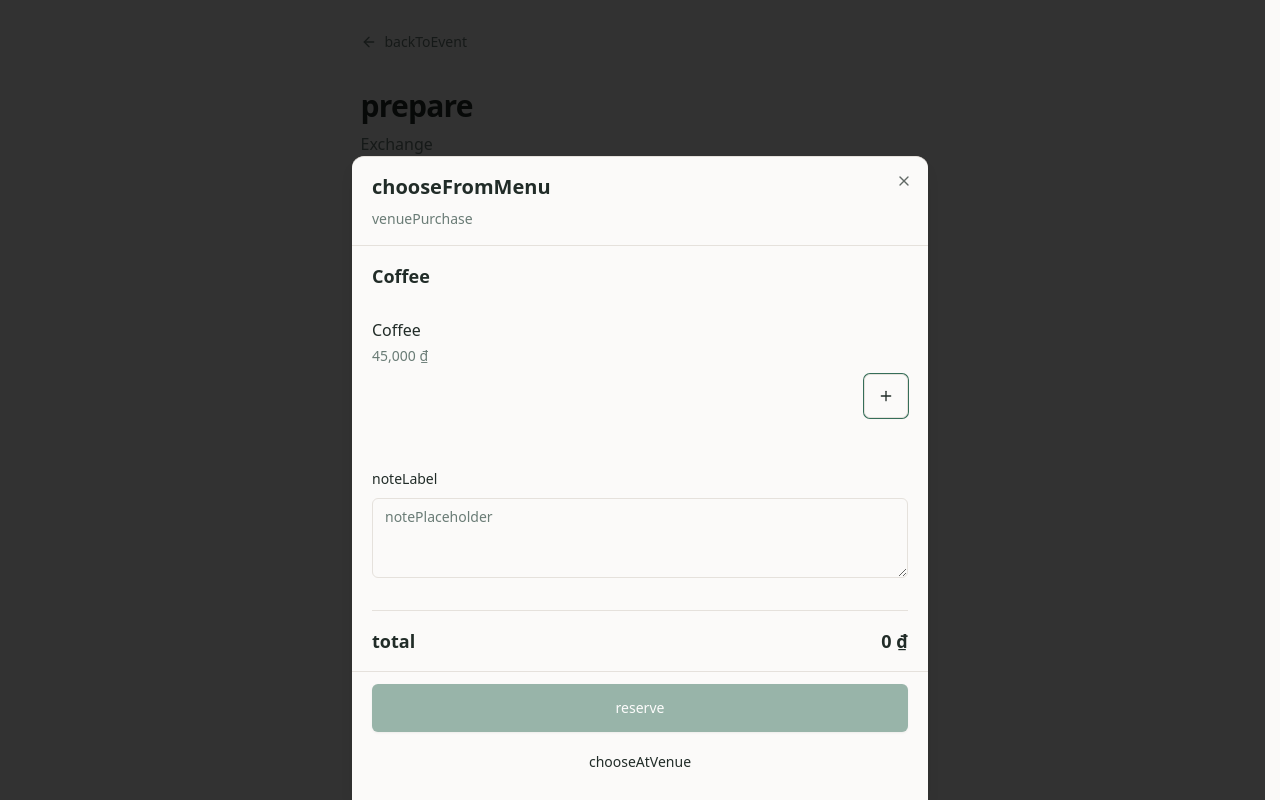
shows the paid menu after the free-drink cutoff and lets the guest choose at the venue
Check: the heading "chooseFromMenu" is shown, box [372,173,551,200]
Check: the text "venuePurchase" is shown, box [372,209,473,228]
What coordinates should you click on to do the following:
click the button "chooseAtVenue"
I would click on:
 (640, 762)
Its box is [372,740,908,784].
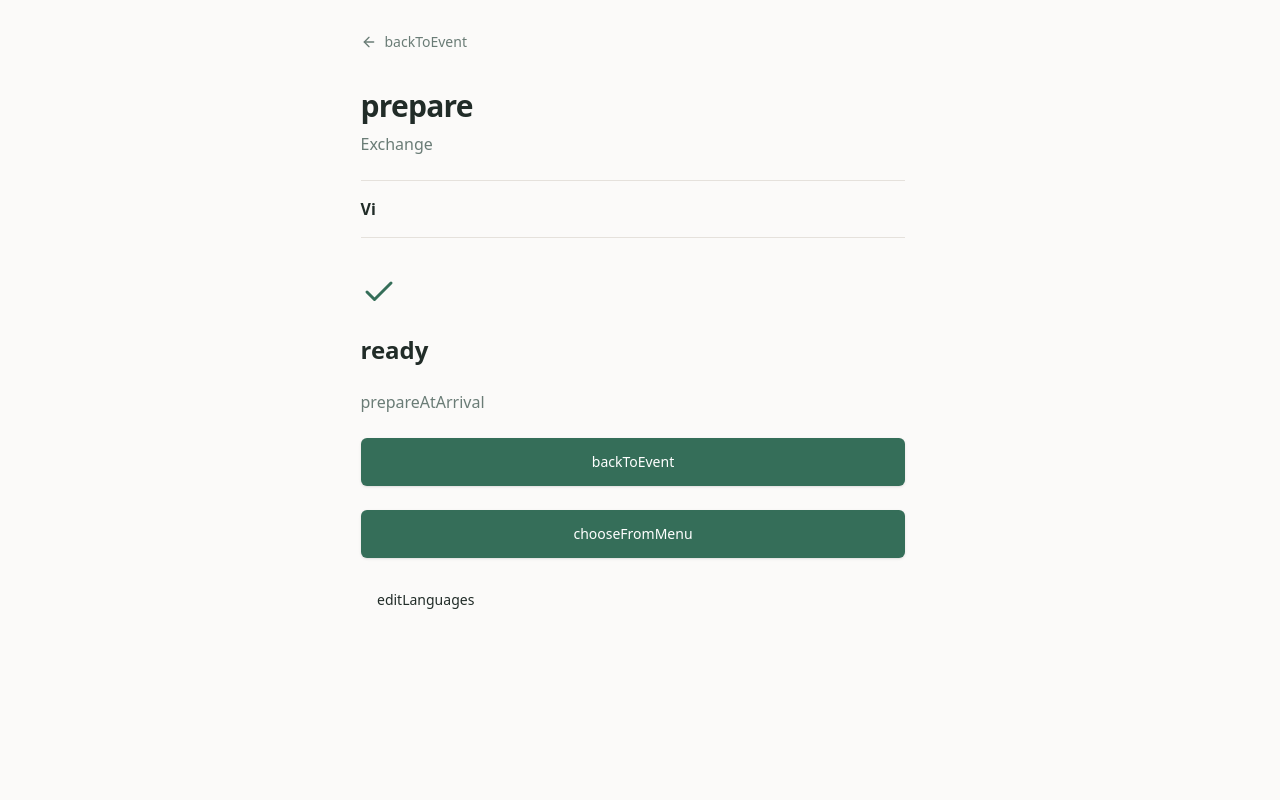
Check: the heading "ready" is shown, box [360,333,428,366]
